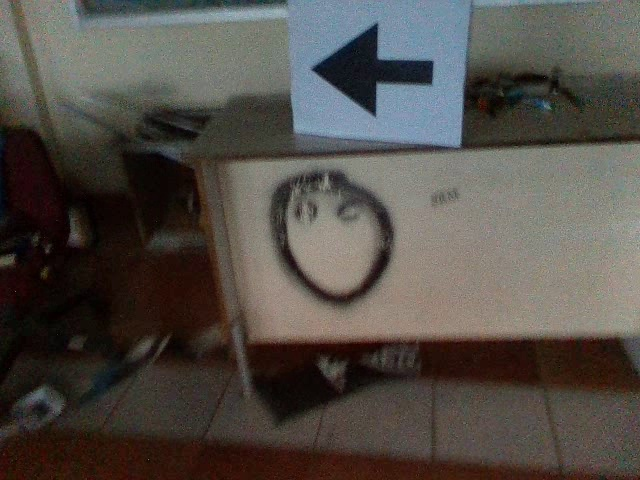Left: (308, 13, 439, 123)
